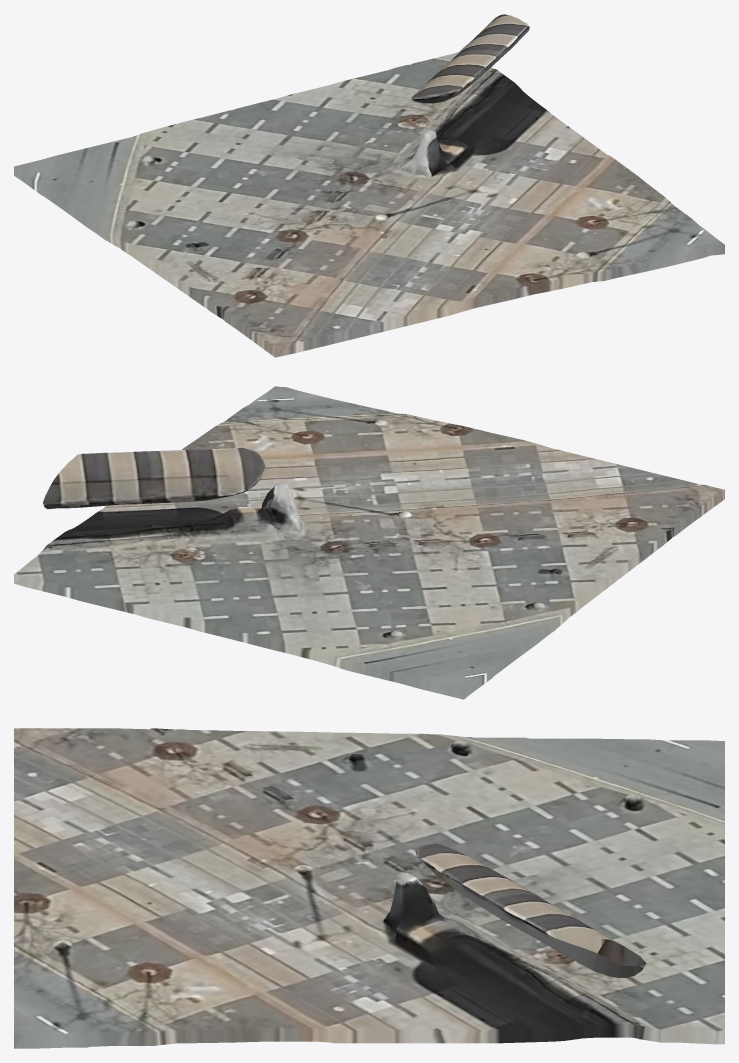
The model's file is z20-167790-405223-h0-yup-uvflip-v3-world.glb.
The picture shows the model from 3 angles, top to bottom: view 1: azimuth 30°, elevation 25°; view 2: azimuth 150°, elevation 25°; view 3: azimuth 270°, elevation 25°; orthographic projection. The views are drawn at different scales.
Size of the model in its own units: 30.16 by 5.68 by 30.32.
Materials: 1 (1 with a texture image).
